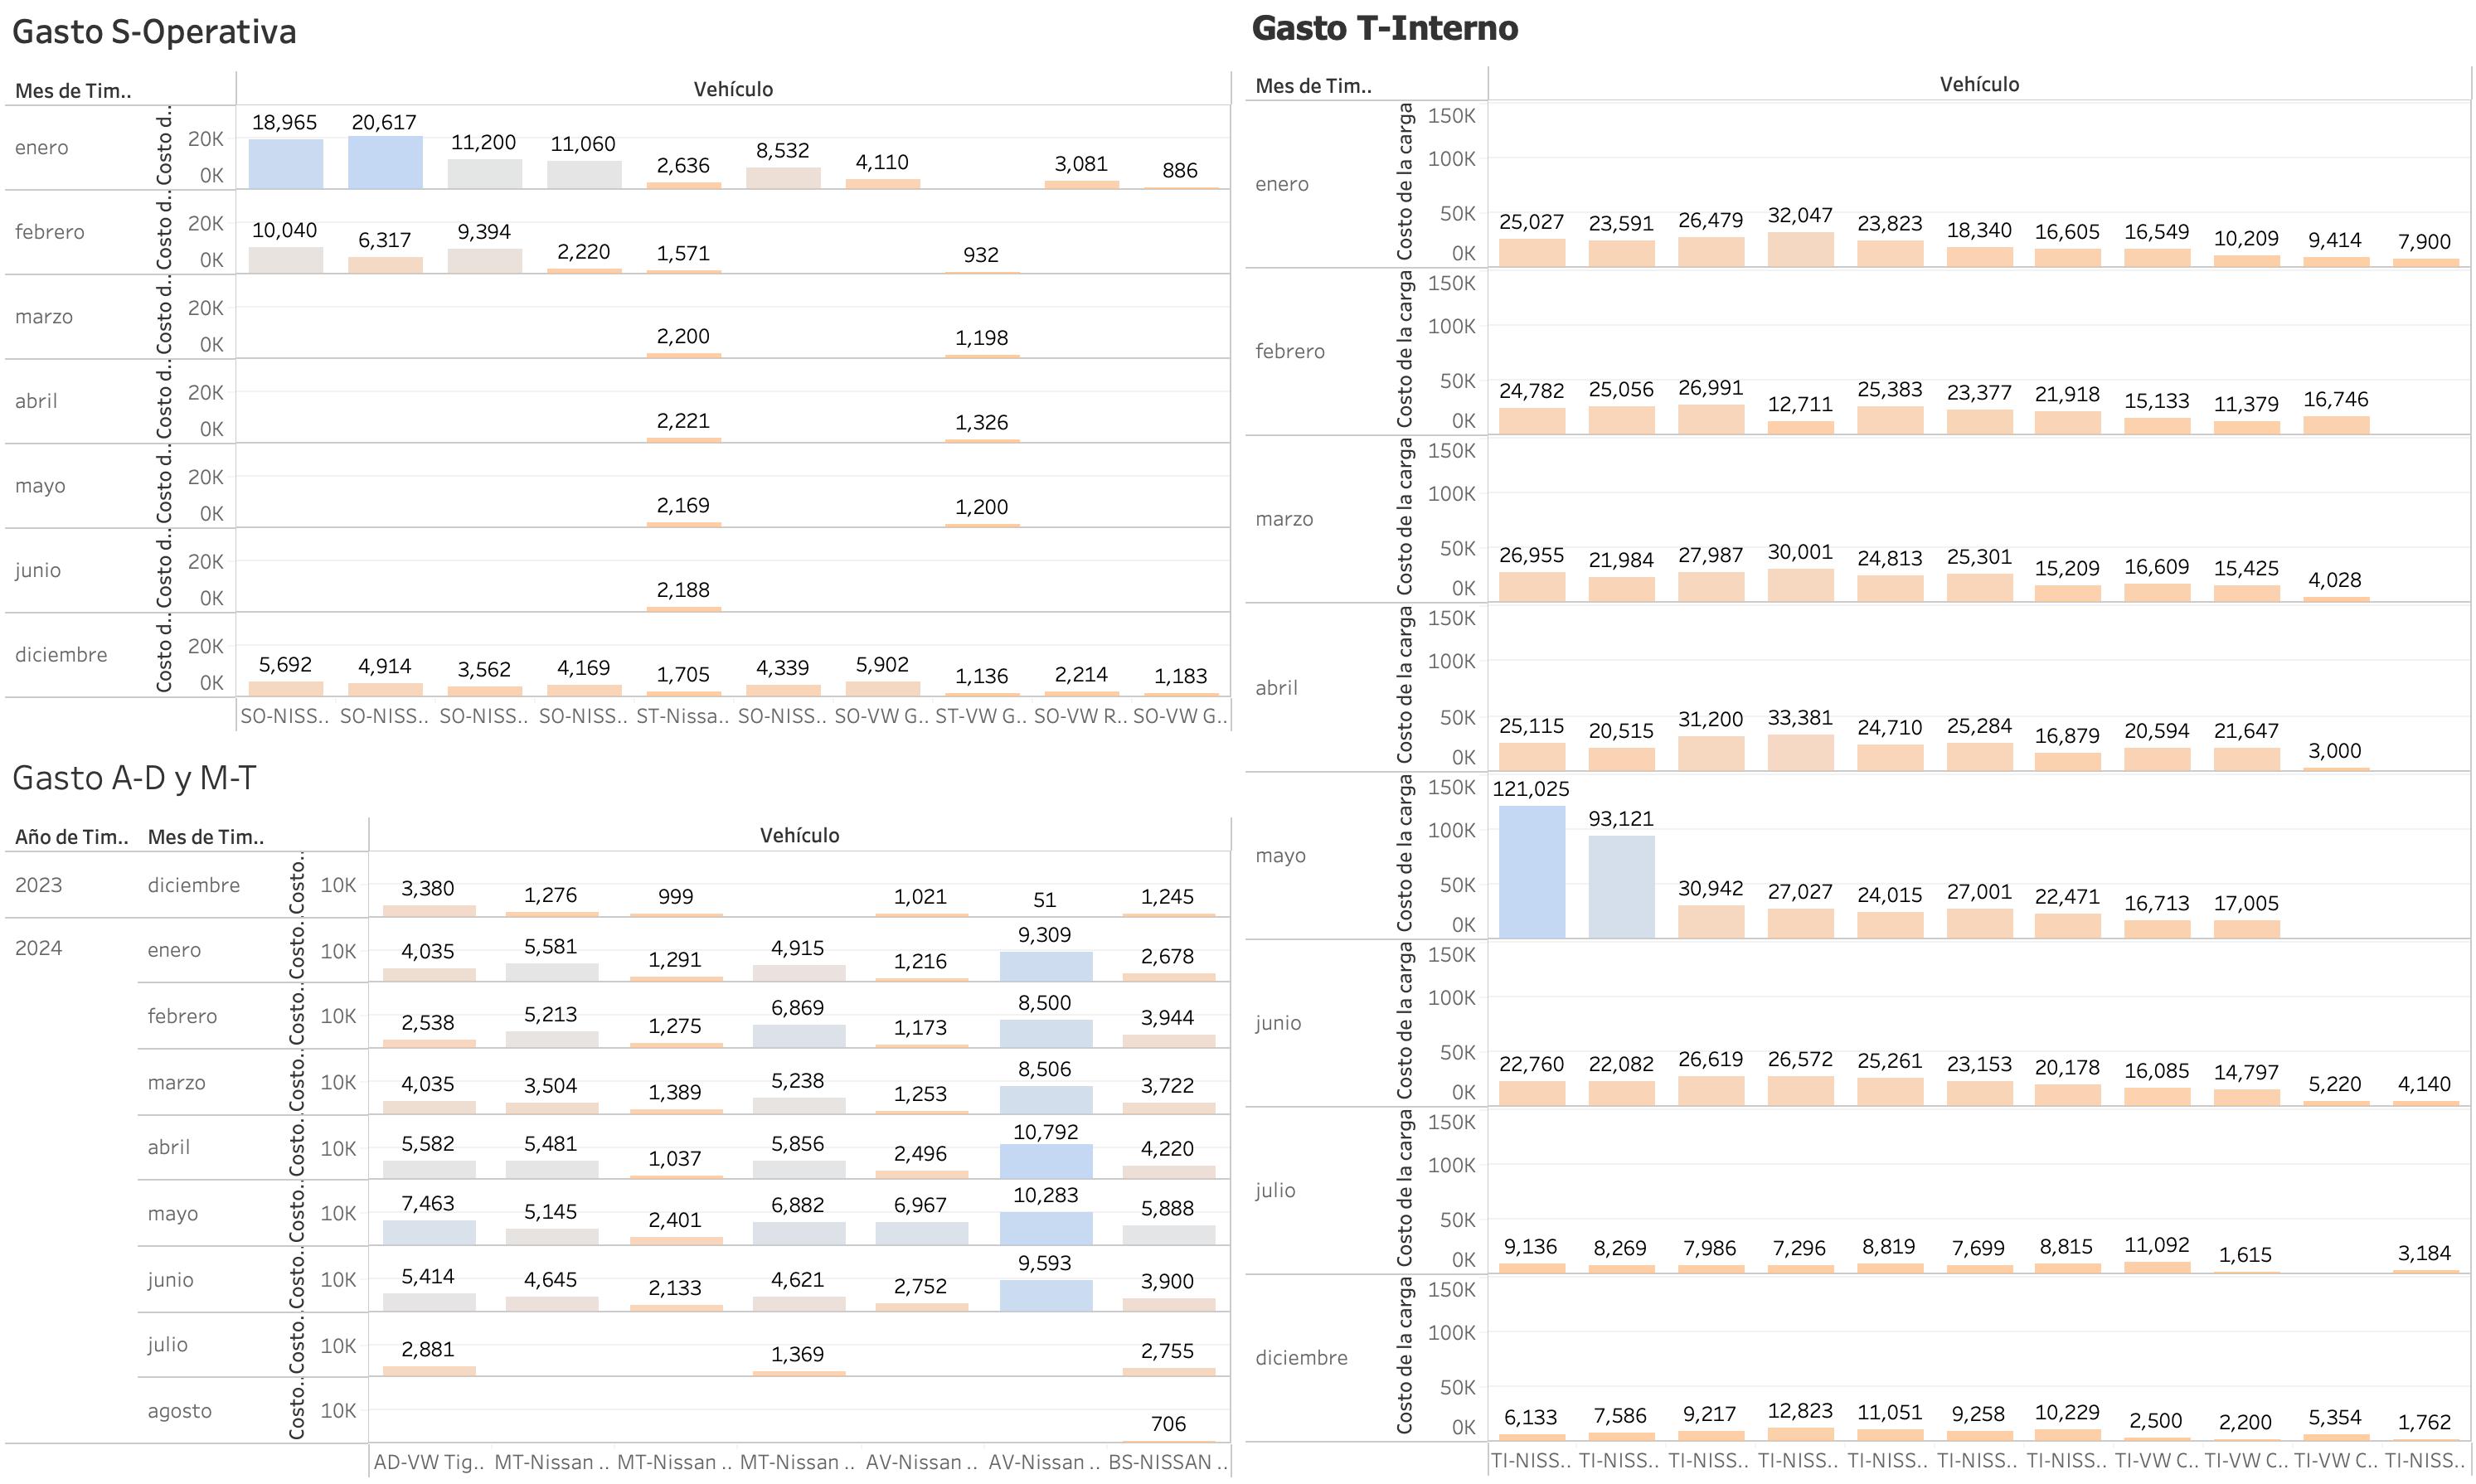

The page's visual inventory and layout, read from the dashboard file:
{"tool":"tableau","page":{"name":"Resumen gasto$","canvas":[1000,1000],"units":"permille","ordinal":0},"visuals":[{"type":"worksheet","title":"Gasto S-O y S-T","mark":"Automatic","rows":["Timestamp","Costo de la carga"],"cols":["Vehículo"],"box":[4.8,9.1,495.2,490.9]},{"type":"worksheet","title":"Gasto T-I","mark":"Automatic","rows":["Timestamp","Costo de la carga"],"cols":["Vehículo"],"box":[500,9.1,495.3,981.8]},{"type":"worksheet","title":"Gasto M-T","mark":"Automatic","rows":["Timestamp","Timestamp","Costo de la carga"],"cols":["Vehículo"],"box":[4.8,500,495.2,490.9]}]}

Visuals, with their boxes on the dashboard's canvas, which has no fixed pixel size, in thousandths of its width and height (x1, y1, x2, y2). These are canvas units, not pixel positions in the 2476x1484 screenshot, which may show the page scaled, cropped or inside an application window:
"Gasto S-O y S-T" worksheet: bbox=(5, 9, 500, 500)
"Gasto T-I" worksheet: bbox=(500, 9, 995, 991)
"Gasto M-T" worksheet: bbox=(5, 500, 500, 991)
